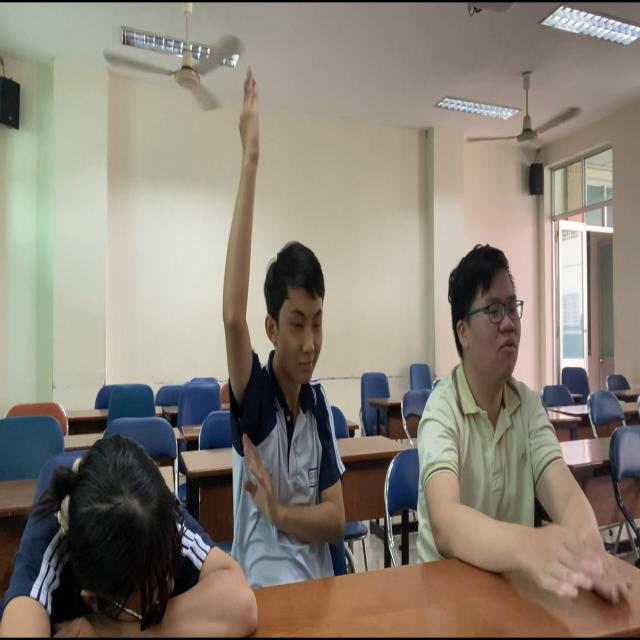raise_hand: (222, 65, 341, 594)
sleep: (5, 431, 253, 640)
